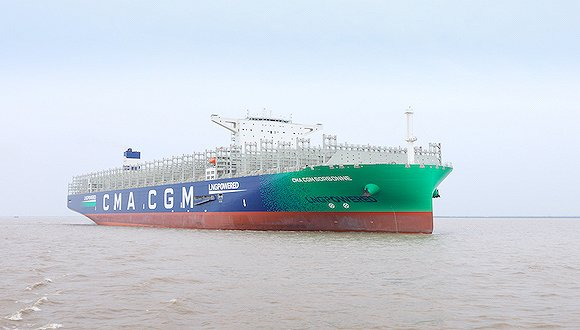Cargoship: (62, 105, 451, 236)
